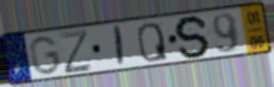9: (211, 12, 241, 55)
G: (28, 35, 63, 77)
I: (113, 24, 126, 68)
Q: (136, 21, 170, 63)
S: (173, 15, 212, 60)
Z: (57, 27, 95, 75)
